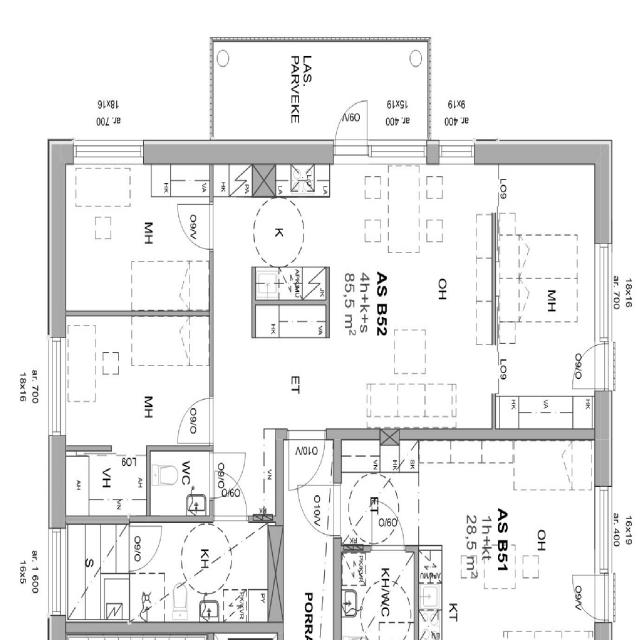door: (288, 430, 325, 490), (335, 100, 367, 155), (572, 343, 608, 389), (178, 204, 213, 250), (215, 472, 247, 520), (128, 526, 162, 571), (210, 453, 244, 498), (178, 398, 212, 443)
